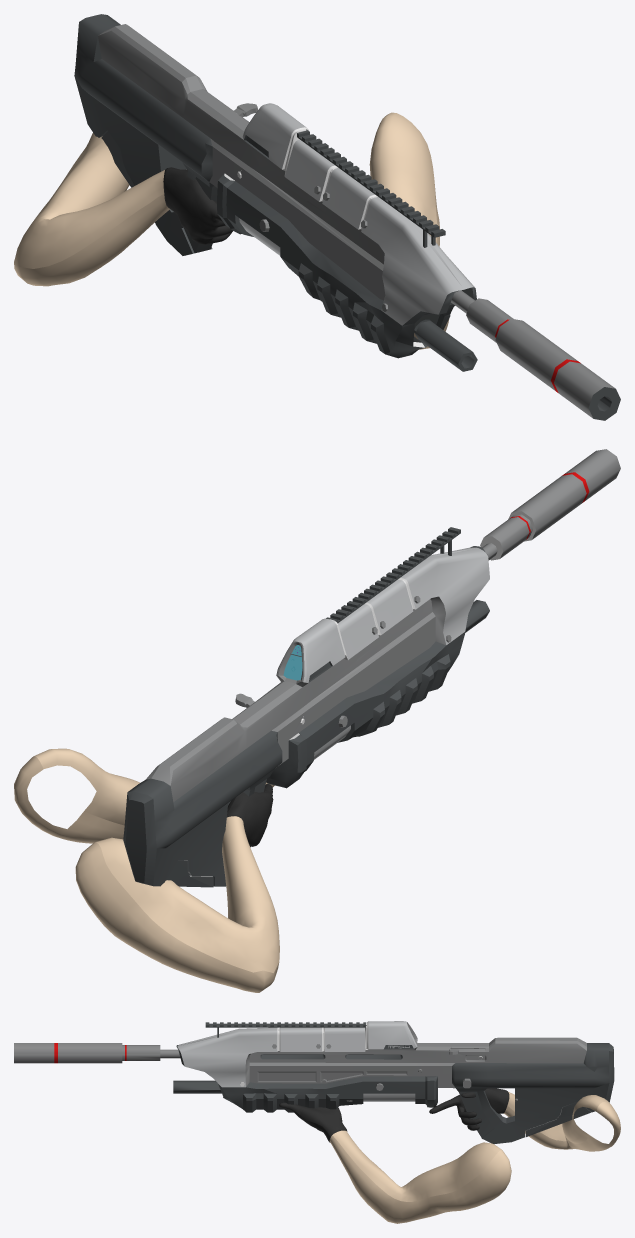
3 views of the same model, one above another, from view 1: azimuth 30°, elevation 25°; view 2: azimuth 150°, elevation 25°; view 3: azimuth 270°, elevation 25° (orthographic). The views are drawn at different scales.
Visible parts, largest first — view 1: g_polySurface2_polySurface24.011_meshId4_name.011, SketchUp, SketchUp.031, SketchUp.005, SketchUp.012, g_polySurface2_polySurface24_meshId4_name, SketchUp.056, instance_2, SketchUp.011, SketchUp.016, SketchUp.015, SketchUp.054 (+3 smaller); view 2: g_polySurface2_polySurface24.011_meshId4_name.011, SketchUp, SketchUp.031, SketchUp.005, SketchUp.012, SketchUp.056, SketchUp.011, instance_2, g_polySurface2_polySurface24_meshId4_name, SketchUp.016, SketchUp.054, SketchUp.015 (+2 smaller); view 3: g_polySurface2_polySurface24.011_meshId4_name.011, SketchUp, SketchUp.031, SketchUp.005, SketchUp.012, g_polySurface2_polySurface24_meshId4_name, SketchUp.056, SketchUp.011, SketchUp.016, SketchUp.015, instance_2, SketchUp.054 (+6 smaller).
Boxes of the visible parts, x1=… form: g_polySurface2_polySurface24.011_meshId4_name.011: x1=14, y1=112, x2=449, y2=349; SketchUp: x1=98, y1=24, x2=385, y2=303; SketchUp.031: x1=74, y1=14, x2=217, y2=255; SketchUp.005: x1=217, y1=173, x2=476, y2=358; SketchUp.012: x1=361, y1=197, x2=474, y2=325; g_polySurface2_polySurface24_meshId4_name: x1=163, y1=167, x2=232, y2=244; SketchUp.056: x1=495, y1=318, x2=577, y2=390; instance_2: x1=296, y1=129, x2=445, y2=247; SketchUp.011: x1=242, y1=103, x2=306, y2=169; SketchUp.016: x1=322, y1=167, x2=374, y2=229; SketchUp.015: x1=284, y1=139, x2=334, y2=201; SketchUp.054: x1=554, y1=361, x2=615, y2=418; g_polySurface2_polySurface24.011_meshId4_name.011: x1=14, y1=748, x2=279, y2=992; SketchUp: x1=145, y1=596, x2=445, y2=801; SketchUp.031: x1=123, y1=730, x2=282, y2=886; SketchUp.005: x1=266, y1=546, x2=485, y2=788; SketchUp.012: x1=400, y1=547, x2=489, y2=644; SketchUp.056: x1=511, y1=474, x2=586, y2=539; SketchUp.011: x1=276, y1=618, x2=345, y2=682; instance_2: x1=325, y1=527, x2=460, y2=623; g_polySurface2_polySurface24_meshId4_name: x1=226, y1=736, x2=357, y2=846; SketchUp.016: x1=366, y1=579, x2=413, y2=634; SketchUp.054: x1=565, y1=449, x2=620, y2=500; SketchUp.015: x1=337, y1=604, x2=378, y2=659; g_polySurface2_polySurface24.011_meshId4_name.011: x1=329, y1=1091, x2=620, y2=1223; SketchUp: x1=245, y1=1022, x2=586, y2=1088; SketchUp.031: x1=452, y1=1043, x2=614, y2=1143; SketchUp.005: x1=176, y1=1045, x2=437, y2=1112; SketchUp.012: x1=177, y1=1027, x2=277, y2=1087; g_polySurface2_polySurface24_meshId4_name: x1=279, y1=1088, x2=509, y2=1142; SketchUp.056: x1=58, y1=1043, x2=122, y2=1063; SketchUp.011: x1=368, y1=1021, x2=417, y2=1049; SketchUp.016: x1=280, y1=1027, x2=321, y2=1051; SketchUp.015: x1=325, y1=1027, x2=364, y2=1051; instance_2: x1=205, y1=1022, x2=366, y2=1037; SketchUp.054: x1=14, y1=1043, x2=54, y2=1063.
Size of the model in its own units: 0.081 by 0.0614 by 0.2141.
